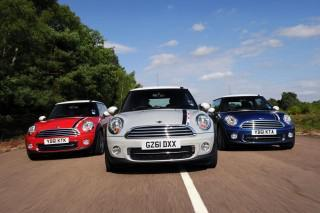mini: (151, 116, 168, 128)
